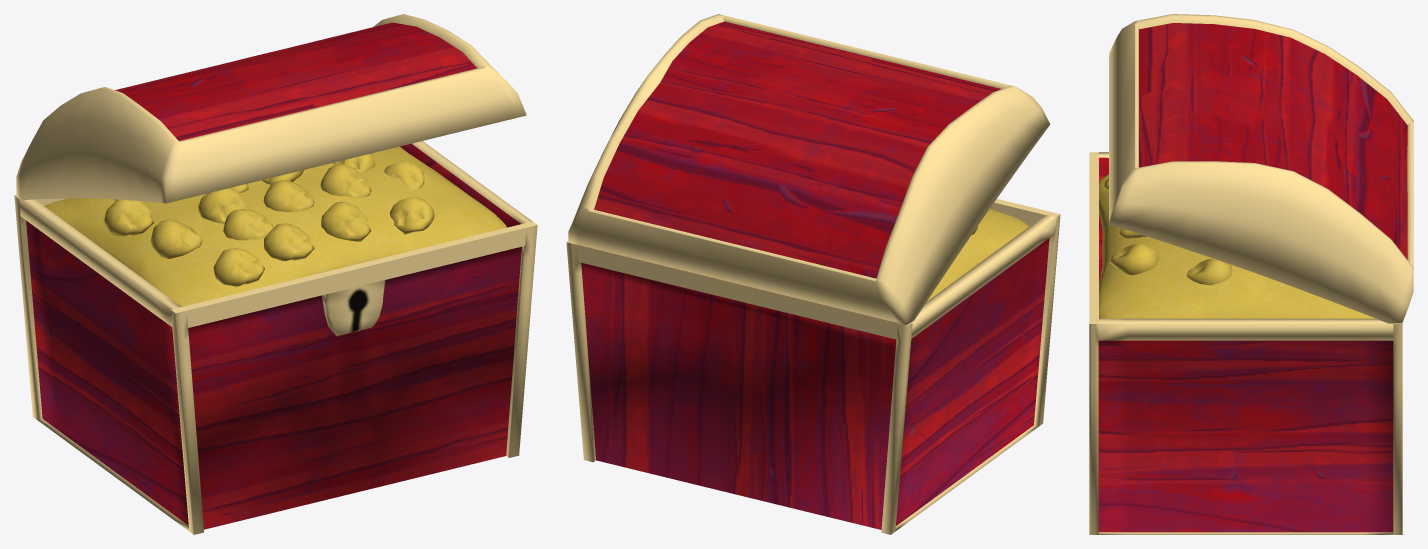
Rendered from chest.glb.
3 renders of one model, left to right at view 1: azimuth 30°, elevation 25°; view 2: azimuth 150°, elevation 25°; view 3: azimuth 270°, elevation 25°, orthographic. The views are drawn at different scales.
Parts seen in each view (by area): view 1: Chest; view 2: Chest; view 3: Chest.
Boxes of the visible parts, x1,y1,x2,y2 form: Chest: [14, 14, 537, 534]; Chest: [566, 14, 1060, 534]; Chest: [1089, 14, 1413, 534].
Bounding box in the file's own units: 4.2 × 4.21 × 3.35.
Materials: 4 (4 with a texture image).
